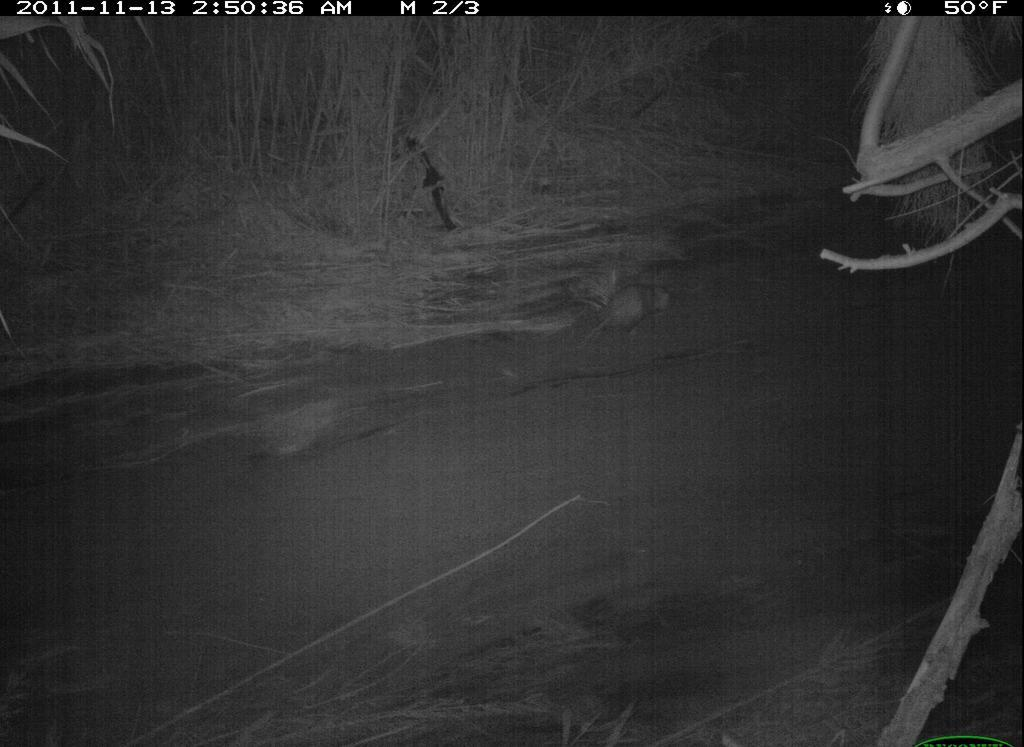opossum: (562, 268, 691, 350)
